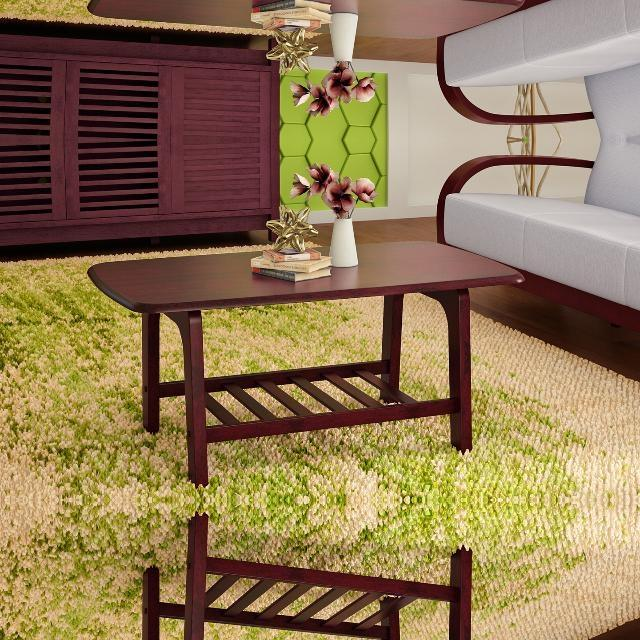obstacle: (78, 230, 556, 496), (78, 504, 556, 640), (78, 0, 556, 49)
